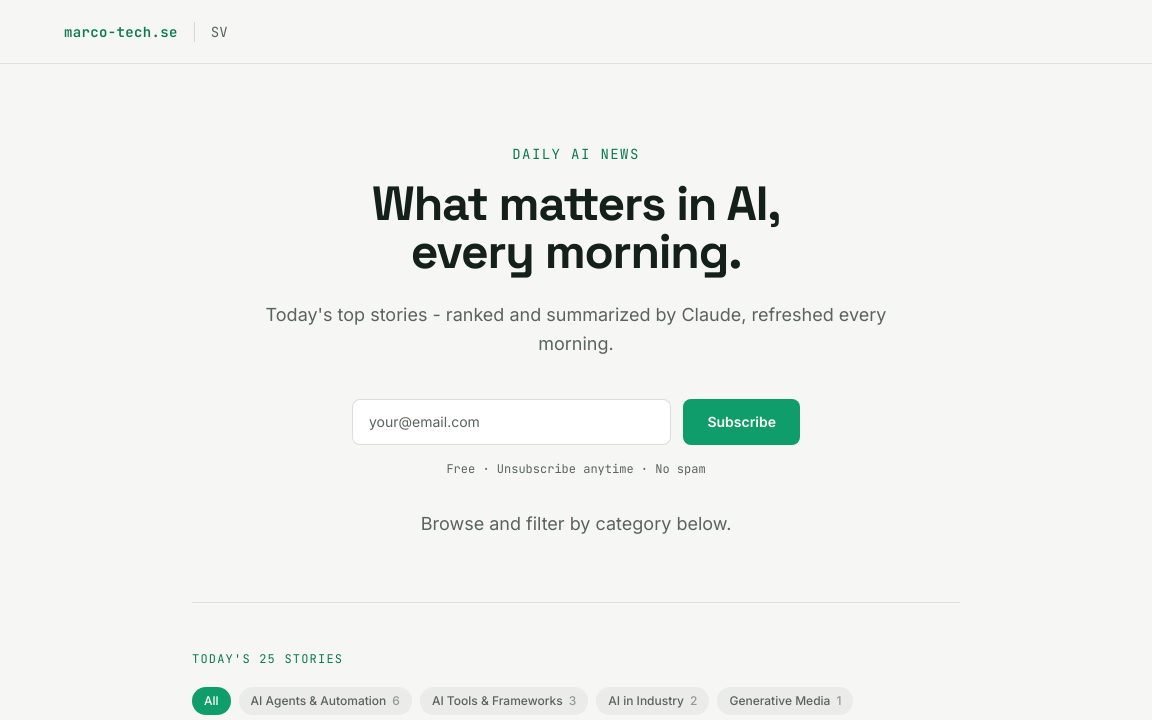
AI News page › shows confirmation prompt after subscribe
The width and height of the screenshot is (1152, 720).
In the field named "Email address": (512, 422) [352,398,671,444], type "test@example.com"
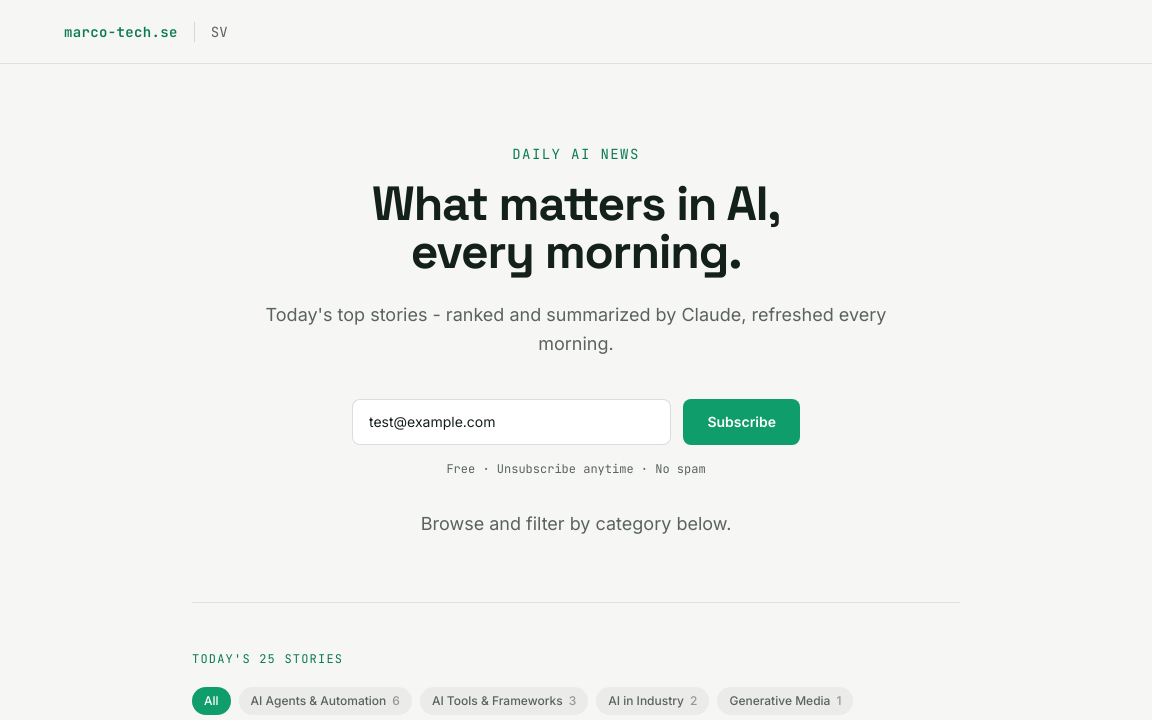
Click the button "Subscribe": (742, 422) [683,398,800,444]
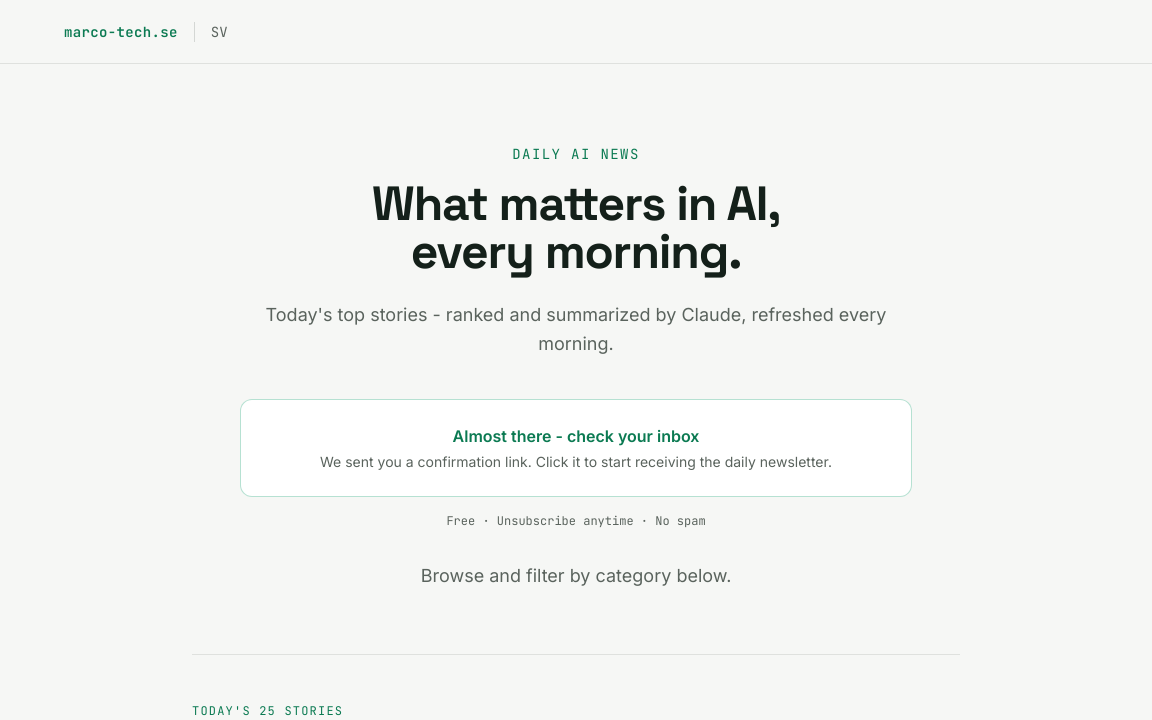
Expected: the text "Almost there - check your inbox" is shown, [452,426,699,446]
